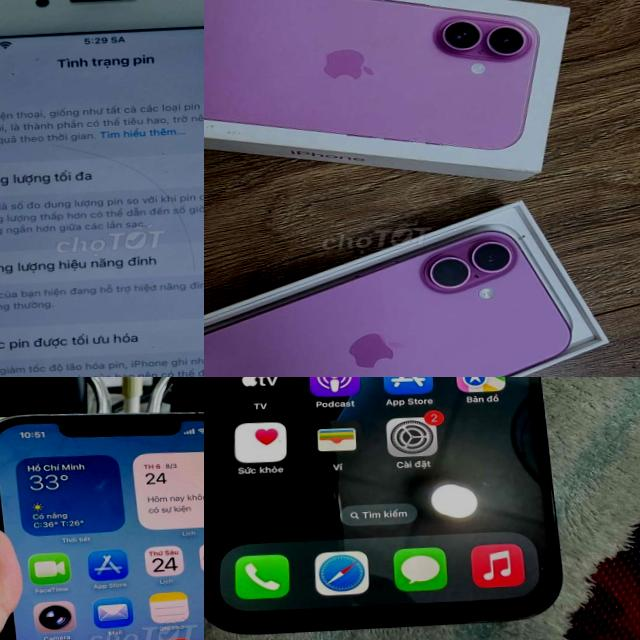gen_12_13: (204, 377, 569, 640), (0, 395, 204, 640)
gen_16: (204, 222, 585, 377)
gen_7_8: (0, 0, 204, 377)
scratch: (0, 42, 56, 78)
